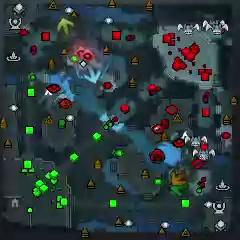Other: (80, 49, 95, 63), (74, 46, 86, 57)
x2: (57, 18, 74, 36)
x3: (85, 64, 102, 83)
x4: (171, 183, 189, 196)
x5: (171, 170, 187, 186)
